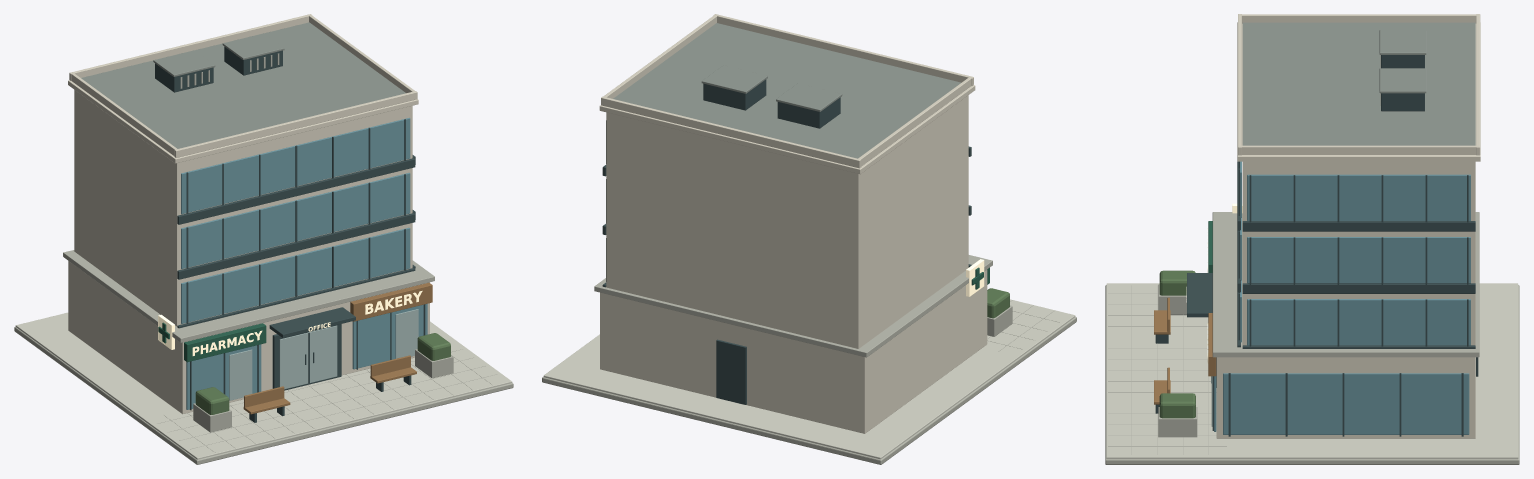
The model's file is medium-4x4-office-retail-05.glb.
3 renders of one model, left to right at view 1: azimuth 30°, elevation 25°; view 2: azimuth 150°, elevation 25°; view 3: azimuth 270°, elevation 25°, orthographic. The views are drawn at different scales.
Visible parts, largest first — view 1: OfficeBody, RoofDeck, Paving, RetailPodium, FrontWindowBand, FrontWindowBand.002, FrontWindowBand.001, PodiumCap, Lot, OfficeDoors, FrontSpandrel.002, FrontSpandrel.001 (+24 smaller); view 2: OfficeBody, RetailPodium, RoofDeck, Paving, PodiumCap, Lot, Parapet.001, RoofCap, Parapet, RearServiceDoor, Parapet.002, HVACCap.001 (+5 smaller); view 3: Paving, RoofDeck, SidePodiumGlass, SideWindowBand.002, SideWindowBand, SideWindowBand.001, OfficeBody, PodiumCap, RetailPodium, Lot, SideSpandrel.001, SideSpandrel.002 (+15 smaller).
Boxes of the visible parts, left/top/right/bottom form: OfficeBody: left=74, top=90, right=412, bottom=326; RoofDeck: left=81, top=22, right=405, bottom=148; Paving: left=15, top=312, right=512, bottom=459; RetailPodium: left=68, top=261, right=429, bottom=414; FrontWindowBand: left=181, top=227, right=410, bottom=323; FrontWindowBand.002: left=181, top=118, right=410, bottom=214; FrontWindowBand.001: left=181, top=172, right=410, bottom=268; PodiumCap: left=63, top=250, right=434, bottom=342; Lot: left=14, top=326, right=513, bottom=464; OfficeDoors: left=279, top=325, right=337, bottom=389; FrontSpandrel.002: left=177, top=158, right=415, bottom=224; FrontSpandrel.001: left=177, top=213, right=415, bottom=279; OfficeBody: left=606, top=95, right=968, bottom=348; RetailPodium: left=600, top=270, right=987, bottom=433; RoofDeck: left=613, top=23, right=960, bottom=158; Paving: left=543, top=299, right=1075, bottom=459; PodiumCap: left=594, top=255, right=992, bottom=357; Lot: left=542, top=316, right=1076, bottom=464; Parapet.001: left=601, top=96, right=861, bottom=168; RoofCap: left=599, top=85, right=975, bottom=174; Parapet: left=713, top=14, right=973, bottom=85; RearServiceDoor: left=716, top=339, right=746, bottom=404; Parapet.002: left=858, top=77, right=971, bottom=166; HVACCap.001: left=701, top=65, right=767, bottom=93; Paving: left=1106, top=283, right=1518, bottom=459; RoofDeck: left=1242, top=22, right=1475, bottom=145; SidePodiumGlass: left=1223, top=373, right=1469, bottom=434; SideWindowBand.002: left=1247, top=174, right=1470, bottom=220; SideWindowBand: left=1247, top=299, right=1470, bottom=345; SideWindowBand.001: left=1247, top=237, right=1470, bottom=283; OfficeBody: left=1242, top=161, right=1475, bottom=345; PodiumCap: left=1212, top=212, right=1479, bottom=357; RetailPodium: left=1216, top=357, right=1475, bottom=438; Lot: left=1105, top=285, right=1519, bottom=464; SideSpandrel.001: left=1242, top=283, right=1475, bottom=293; SideSpandrel.002: left=1242, top=221, right=1475, bottom=231.
Bounding box in the file's own units: 16 × 13.4 × 16.
